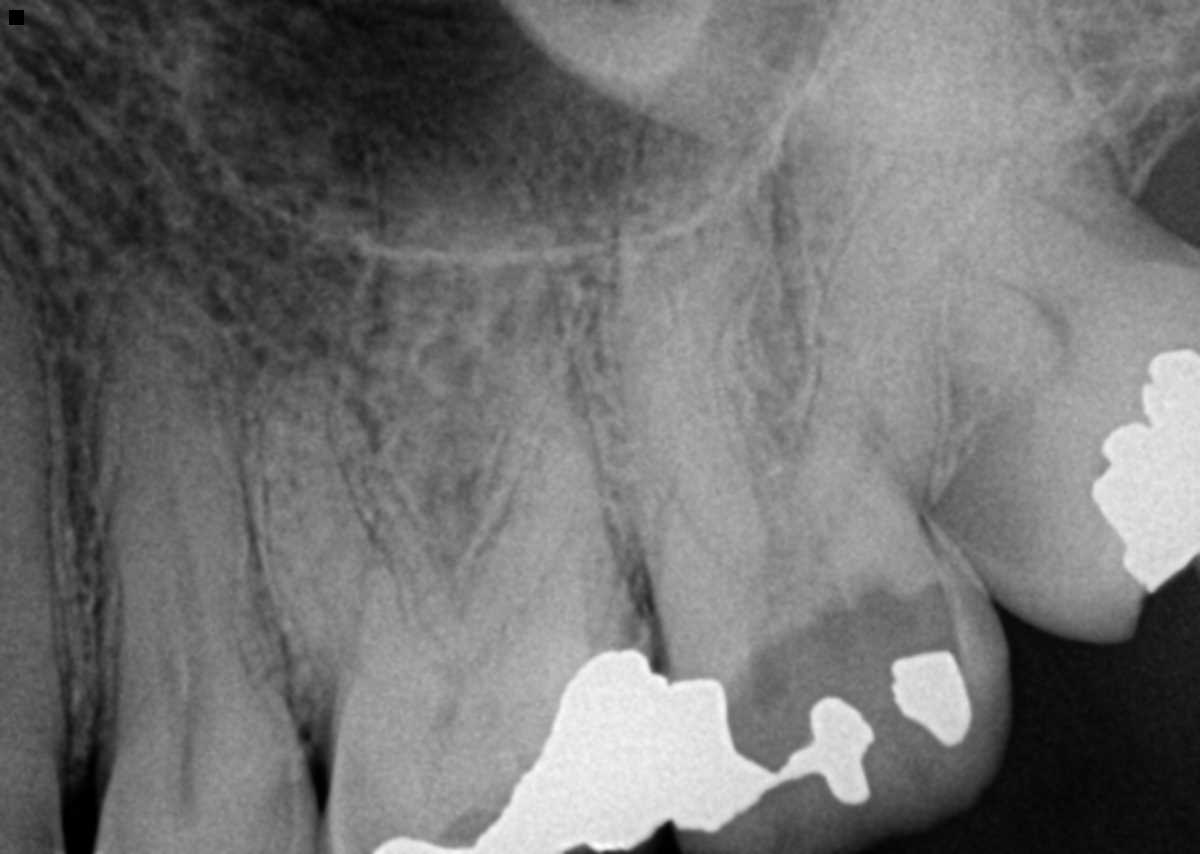Distal Canal: (850, 281, 892, 476)
Distal Root: (458, 216, 696, 698), (797, 139, 943, 530)
Main Canal: (152, 279, 216, 699)
Main Root: (784, 0, 1135, 480), (91, 252, 285, 718), (0, 264, 60, 722)
Mesial Root: (609, 27, 798, 606), (257, 331, 468, 704), (608, 188, 771, 539)
Palatal Root: (362, 128, 649, 661)
